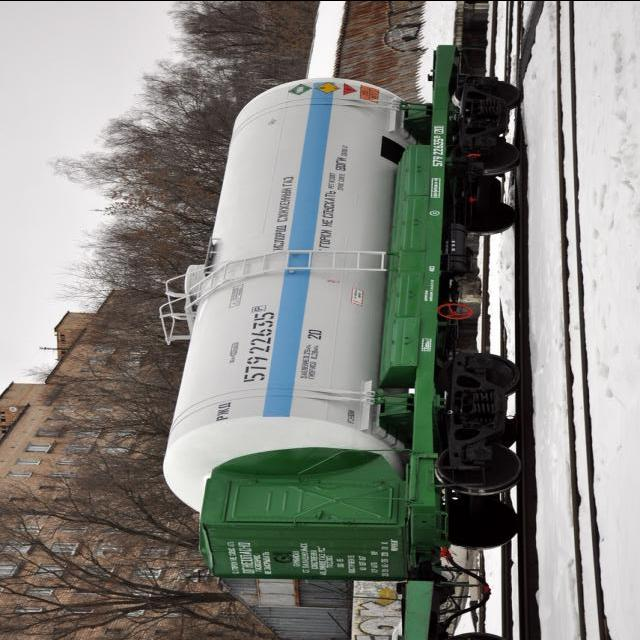wagon: (238, 310, 284, 384), (426, 136, 448, 167)
